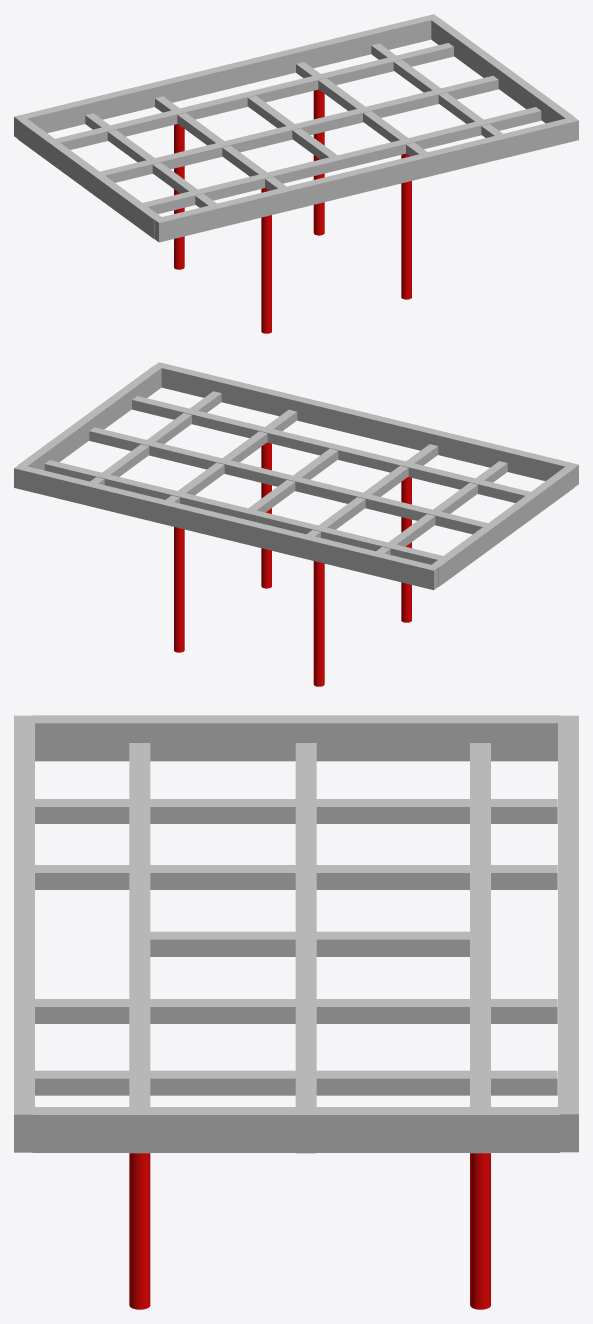
Rendered from techo.obj.
3 views of the same model, one above another, from view 1: azimuth 30°, elevation 25°; view 2: azimuth 150°, elevation 25°; view 3: azimuth 270°, elevation 25° (orthographic). The views are drawn at different scales.
Parts seen in each view (by area): view 1: pCylinder5; view 2: pCylinder5; view 3: pCylinder5.
Part boxes in pixels (<box>): pCylinder5: <box>14,14,578,333</box>; pCylinder5: <box>14,362,578,686</box>; pCylinder5: <box>14,715,578,1309</box>.
Bounding box in the file's own units: 180 × 68.18 × 108.
